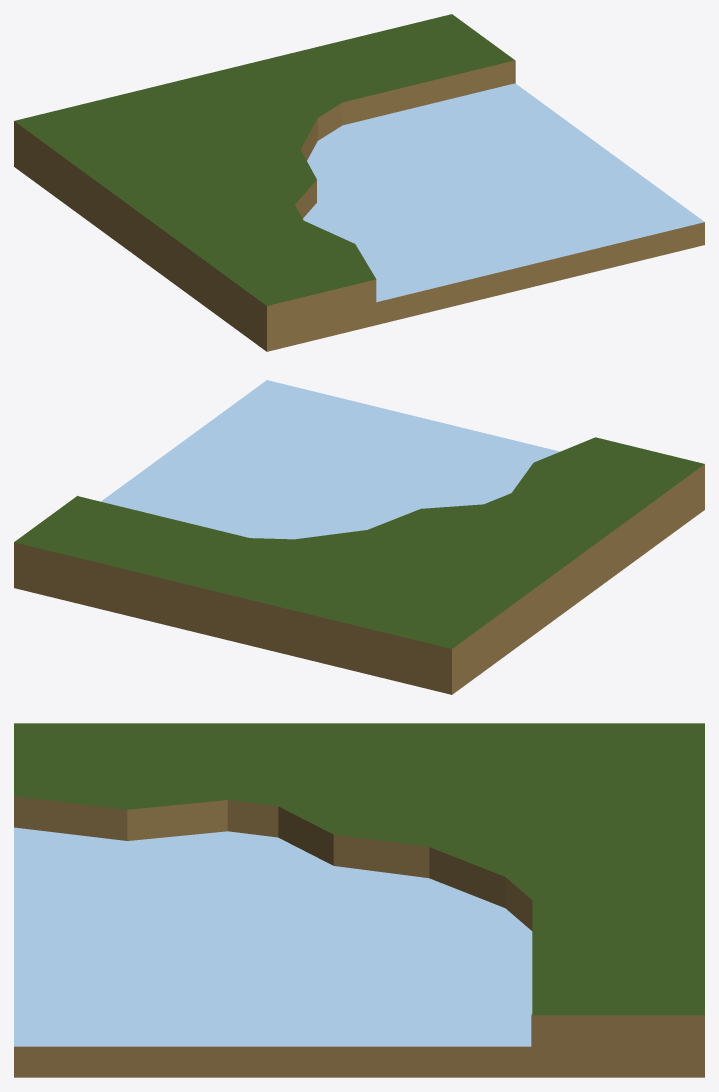
Rendered from Terrain_Modular_Tiles_Grass_Dirt_Water_Edge_Corner_Outer_02.fbx.
The picture shows the model from 3 angles, top to bottom: view 1: azimuth 30°, elevation 25°; view 2: azimuth 150°, elevation 25°; view 3: azimuth 270°, elevation 25°; orthographic projection. The views are drawn at different scales.
Parts seen in each view (by area): view 1: Terrain_Modular_Tiles_Grass_Dirt_Water_Edge_Corner_Outer_02; view 2: Terrain_Modular_Tiles_Grass_Dirt_Water_Edge_Corner_Outer_02; view 3: Terrain_Modular_Tiles_Grass_Dirt_Water_Edge_Corner_Outer_02.
Boxes of the visible parts, bbox=[...] form: Terrain_Modular_Tiles_Grass_Dirt_Water_Edge_Corner_Outer_02: bbox=[14, 14, 704, 351]; Terrain_Modular_Tiles_Grass_Dirt_Water_Edge_Corner_Outer_02: bbox=[14, 380, 704, 694]; Terrain_Modular_Tiles_Grass_Dirt_Water_Edge_Corner_Outer_02: bbox=[14, 723, 704, 1077].
Size of the model in its own units: 3000 by 300 by 3000.
